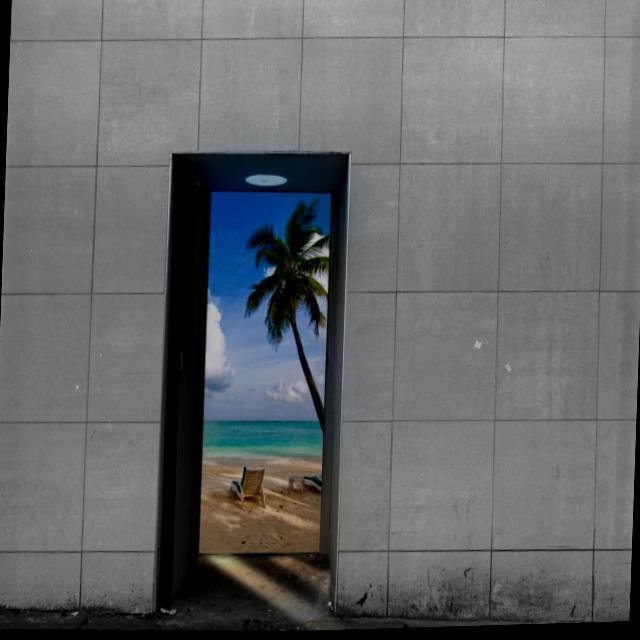open: (146, 131, 364, 633)
